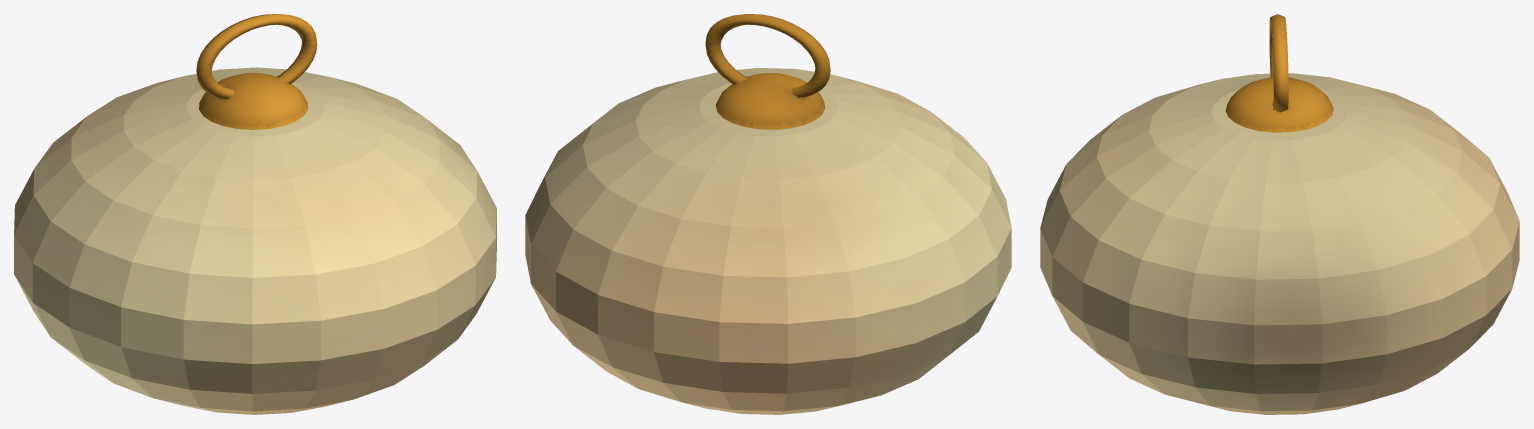
The picture shows the model from 3 angles, left to right: view 1: azimuth 30°, elevation 25°; view 2: azimuth 150°, elevation 25°; view 3: azimuth 270°, elevation 25°; orthographic projection.
Parts seen in each view (by area): view 1: V5 Christmas Collection2.14_V5 Christmas Collection2_0.001; view 2: V5 Christmas Collection2.14_V5 Christmas Collection2_0.001; view 3: V5 Christmas Collection2.14_V5 Christmas Collection2_0.001.
Boxes of the visible parts, x1=… form: V5 Christmas Collection2.14_V5 Christmas Collection2_0.001: x1=14, y1=14, x2=496, y2=414; V5 Christmas Collection2.14_V5 Christmas Collection2_0.001: x1=525, y1=14, x2=1011, y2=414; V5 Christmas Collection2.14_V5 Christmas Collection2_0.001: x1=1040, y1=14, x2=1519, y2=414.
Size of the model in its own units: 3.56 by 2.95 by 3.58.
Materials: 1 (1 with a texture image).
